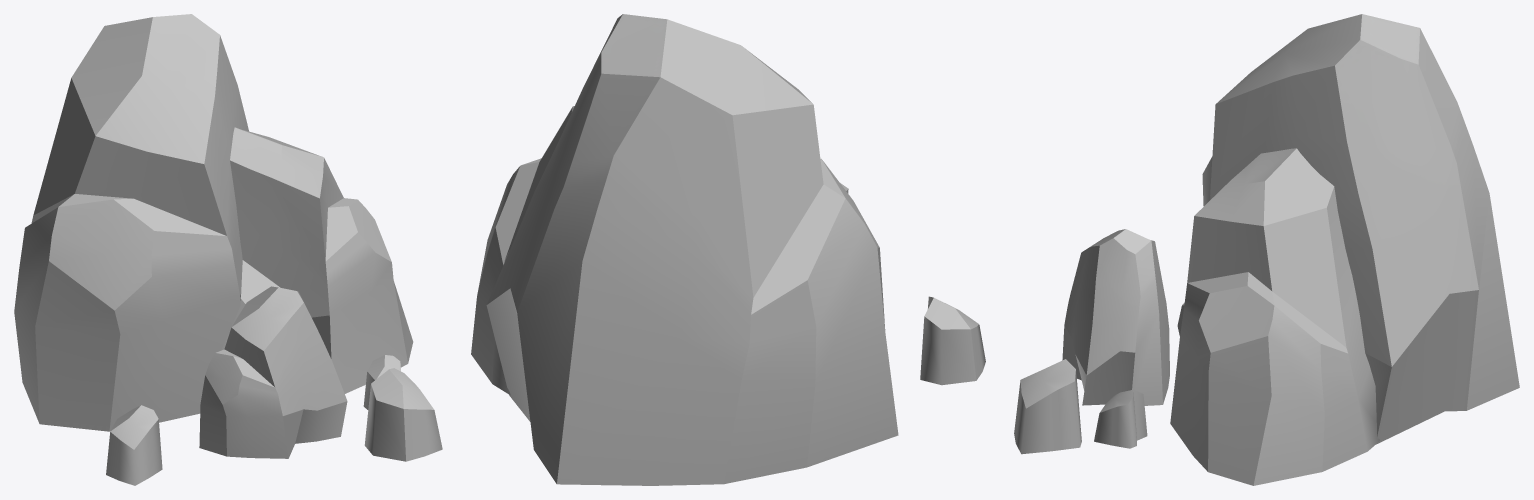
File: big_rock.obj
The picture shows the model from 3 angles, left to right: view 1: azimuth 30°, elevation 25°; view 2: azimuth 150°, elevation 25°; view 3: azimuth 270°, elevation 25°; orthographic projection. The views are drawn at different scales.
Parts seen in each view (by area): view 1: Resource_Rock_1; view 2: Resource_Rock_1; view 3: Resource_Rock_1.
Boxes of the visible parts, bbox=[...] form: Resource_Rock_1: bbox=[14, 14, 442, 485]; Resource_Rock_1: bbox=[471, 14, 985, 485]; Resource_Rock_1: bbox=[1014, 14, 1519, 485].
Size of the model in its own units: 0.6189 by 0.5663 by 0.6978.
1 material, 1 textured.
